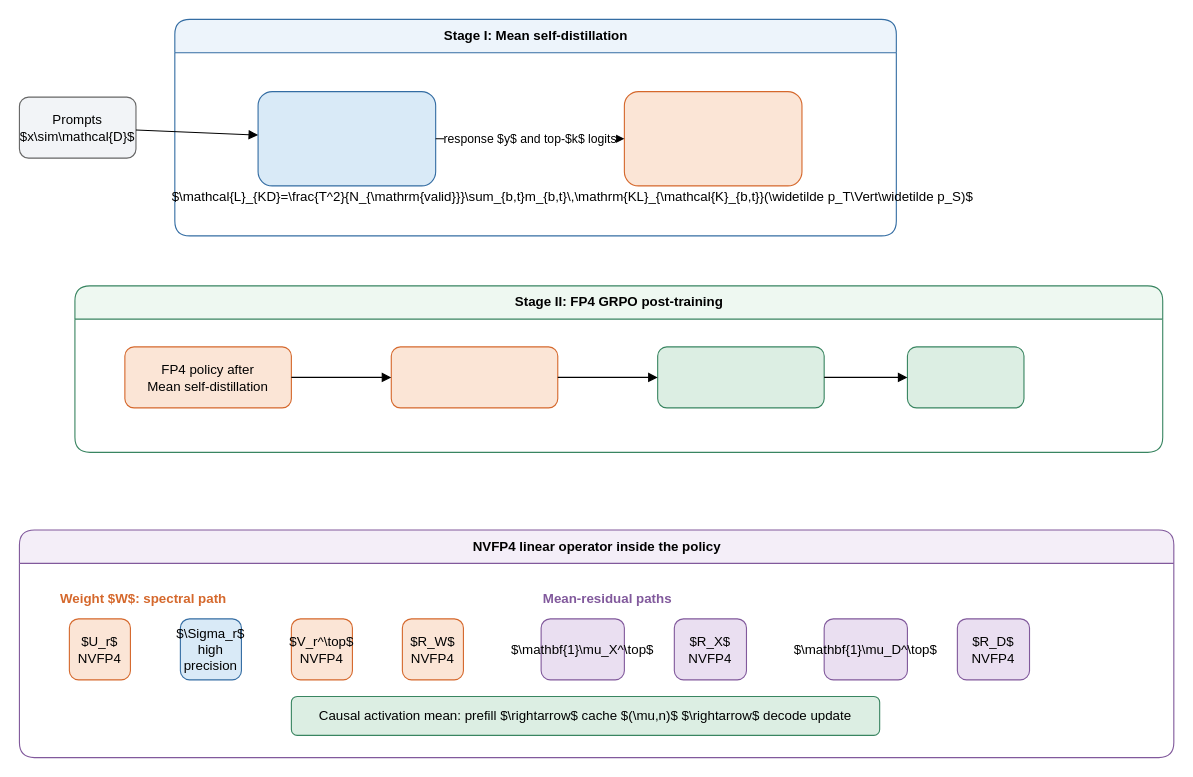
The diagram is 1193 pixels wide and 777 high, and some of its shapes have lost their labels. Here are the shapes that lost their labels. From the top down, the centre of each, then its label:
At point (346, 138): "☃ Frozen BF16 teacher".
At point (712, 138): "🤖 Trainable FP4 student $\theta_S$".
At point (474, 377): "Quantized rollout $\{y_i\}_{i=1}^G$".
At point (740, 377): "Task rewards and group advantages".
At point (965, 377): "Update policy with GRPO".
